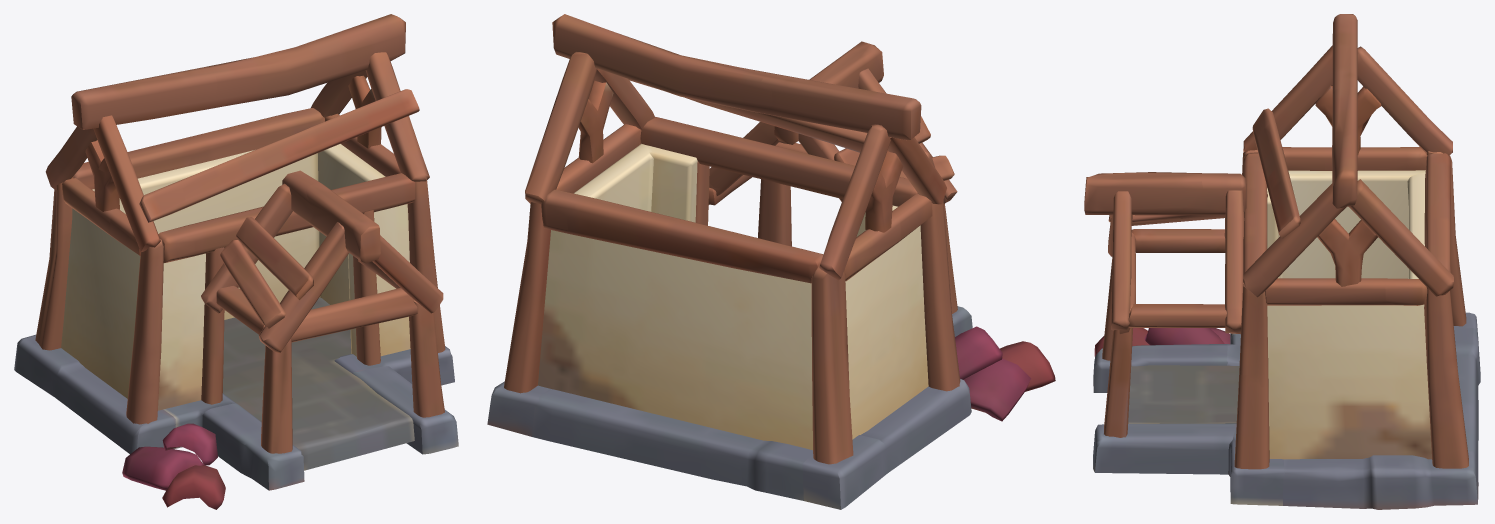
Rendered from SM_House_03.glb.
3 views of the same model, side by side, from view 1: azimuth 30°, elevation 25°; view 2: azimuth 150°, elevation 25°; view 3: azimuth 270°, elevation 25° (orthographic). The views are drawn at different scales.
Visible parts, largest first — view 1: SM_House_03; view 2: SM_House_03; view 3: SM_House_03.
Part boxes in pixels (left/top/right/bottom): SM_House_03: left=14, top=14, right=458, bottom=509; SM_House_03: left=487, top=14, right=1055, bottom=509; SM_House_03: left=1084, top=14, right=1480, bottom=509.
Size of the model in its own units: 3.92 by 3.62 by 3.76.
1 material, 1 textured.
